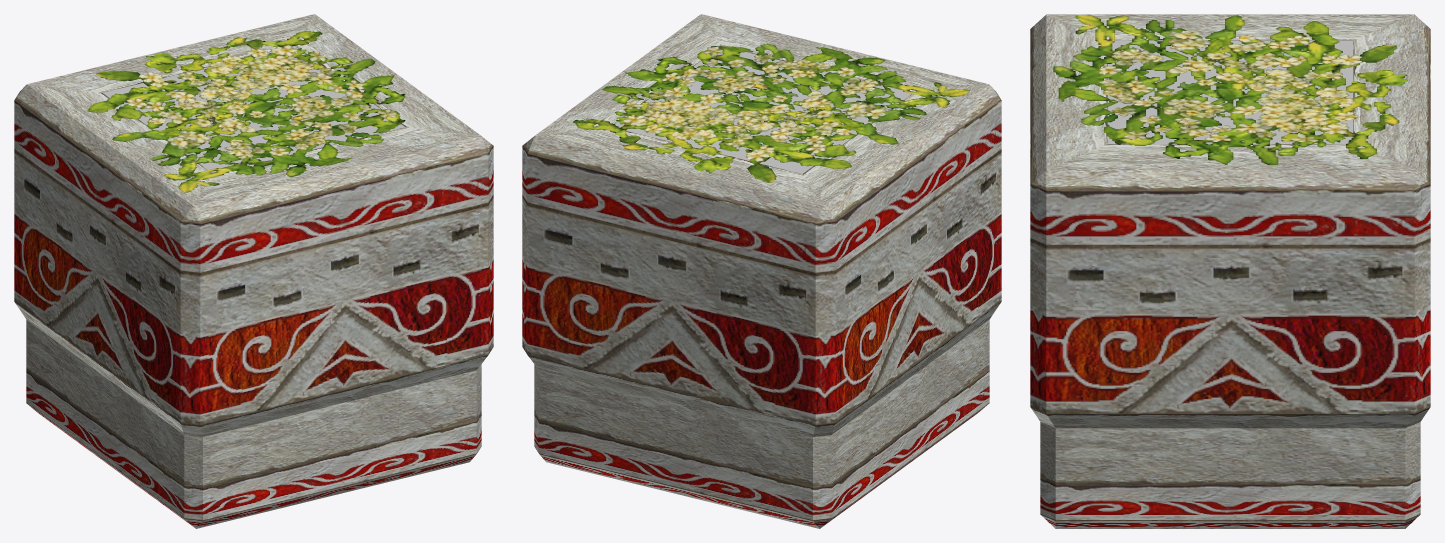
The model's file is block.obj.
3 views of the same model, side by side, from view 1: azimuth 30°, elevation 25°; view 2: azimuth 150°, elevation 25°; view 3: azimuth 270°, elevation 25° (orthographic). The views are drawn at different scales.
Visible parts, largest first — view 1: obj12, obj14, obj13; view 2: obj12, obj14, obj13; view 3: obj12, obj14, obj13.
Boxes of the visible parts, x1=… form: obj12: x1=14, y1=14, x2=493, y2=528; obj14: x1=87, y1=31, x2=405, y2=192; obj13: x1=126, y1=45, x2=397, y2=158; obj12: x1=522, y1=14, x2=1001, y2=528; obj14: x1=572, y1=44, x2=969, y2=182; obj13: x1=621, y1=46, x2=889, y2=161; obj12: x1=1030, y1=14, x2=1430, y2=528; obj14: x1=1053, y1=15, x2=1407, y2=164; obj13: x1=1099, y1=31, x2=1361, y2=141.
Bounding box in the file's own units: 50 × 50.8 × 50.
